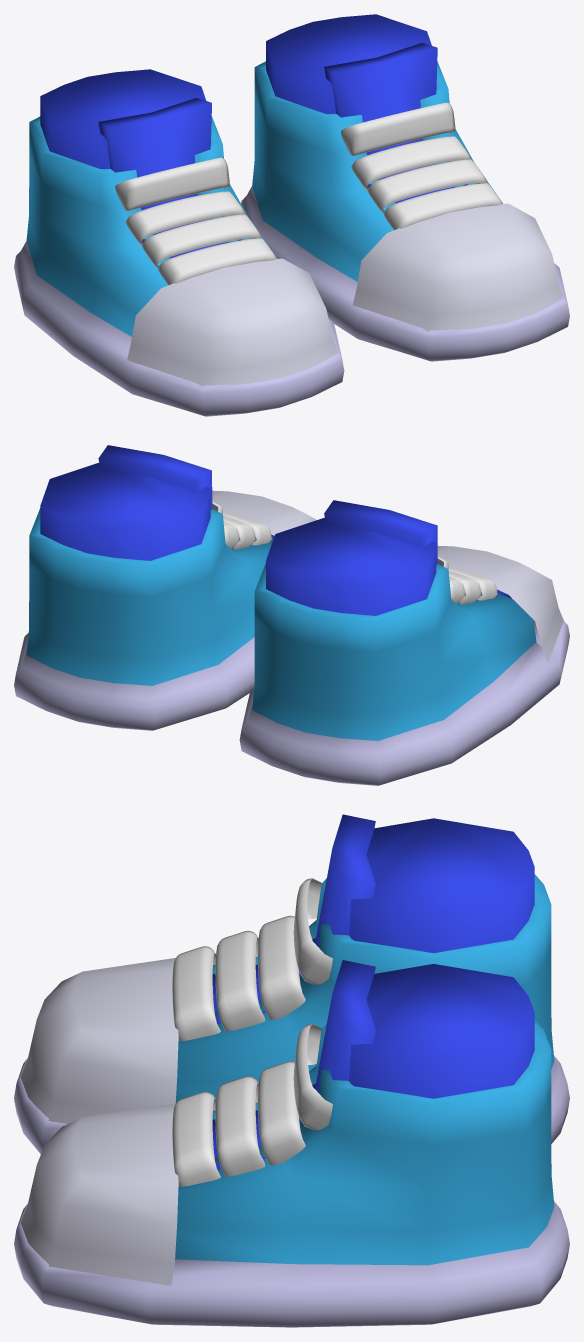
File: shoes.fbx
3 renders of one model, top to bottom at view 1: azimuth 30°, elevation 25°; view 2: azimuth 150°, elevation 25°; view 3: azimuth 270°, elevation 25°, orthographic. The views are drawn at different scales.
Visible parts, largest first — view 1: Cube, NurbsPath; view 2: Cube, NurbsPath; view 3: Cube, NurbsPath.
Boxes of the visible parts, x1,y1,x2,y2 form: Cube: (14,14,569,416); NurbsPath: (115,102,502,285); Cube: (14,445,569,785); NurbsPath: (212,501,497,604); Cube: (14,814,569,1327); NurbsPath: (172,878,332,1186).
Bounding box in the file's own units: 480 × 214 × 396.
